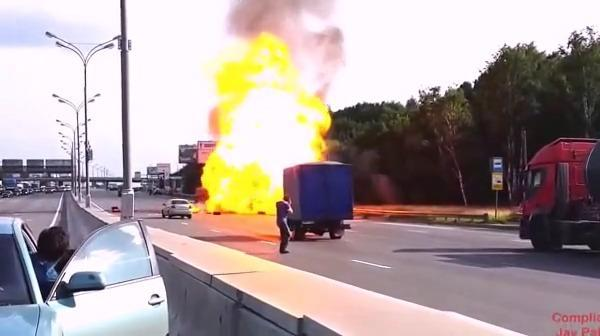fire: (199, 28, 329, 212)
